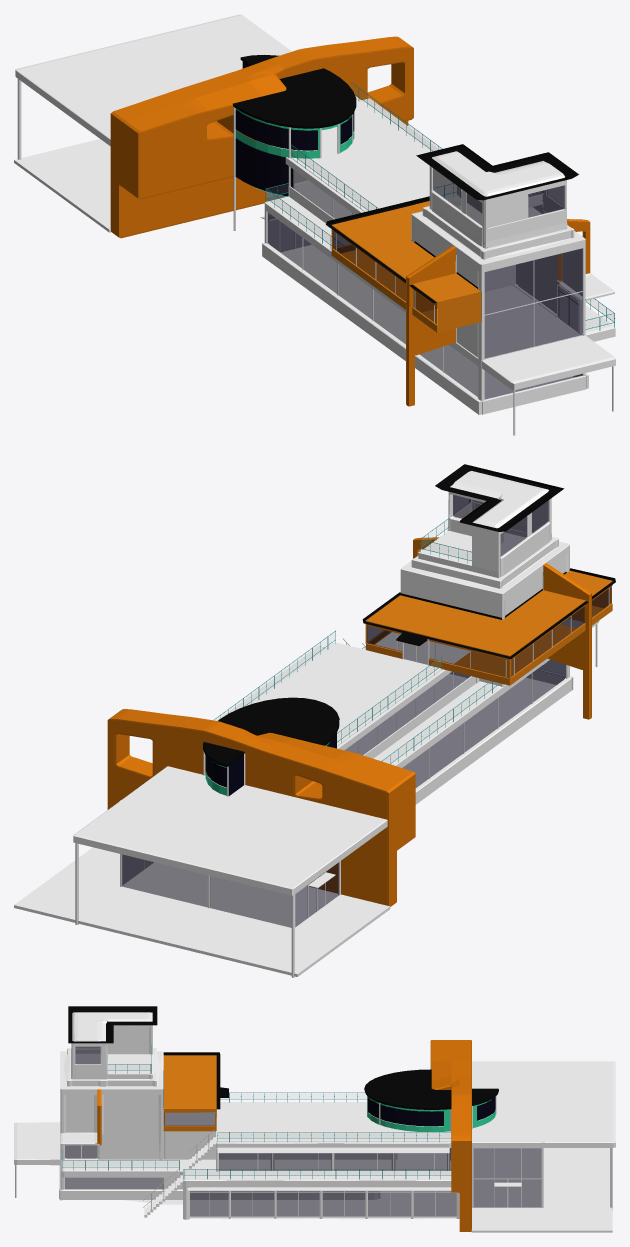
File: Italiandesignhotel1.0.dae
3 views of the same model, one above another, from view 1: azimuth 30°, elevation 25°; view 2: azimuth 150°, elevation 25°; view 3: azimuth 270°, elevation 25° (orthographic). The views are drawn at different scales.
Parts seen in each view (by area): view 1: Cube_001, Cube_004, Cube_003, Plane_009, Cube_005, Cube_068, Plane_007, Circle_002, Cube_028, Cube_026, Circle_001, Plane_004 (+15 smaller); view 2: Cube_001, Cube_028, Cube_003, Cube_004, Cube_005, Cube_068, Plane_002, Plane_007, Circle_002, Cube_002, Plane_011, Plane_004 (+9 smaller); view 3: Cube_001, Cube, Cube_003, Cube_028, Cube_068, Plane_003, Cube_004, Plane_005, Plane, Cube_005, Cube_002, Cube_034 (+17 smaller).
Part boxes in pixels (bbox=[...]): Cube_001: bbox=[262, 151, 615, 414]; Cube_004: bbox=[110, 36, 413, 238]; Cube_003: bbox=[15, 14, 431, 152]; Plane_009: bbox=[484, 248, 582, 358]; Cube_005: bbox=[331, 201, 481, 332]; Cube_068: bbox=[276, 99, 429, 211]; Plane_007: bbox=[268, 213, 477, 396]; Circle_002: bbox=[233, 55, 356, 128]; Cube_028: bbox=[14, 139, 111, 232]; Cube_026: bbox=[484, 285, 580, 358]; Circle_001: bbox=[235, 61, 354, 196]; Plane_004: bbox=[416, 144, 578, 200]; Cube_001: bbox=[345, 471, 599, 804]; Cube_028: bbox=[14, 847, 390, 976]; Cube_003: bbox=[73, 642, 387, 895]; Cube_004: bbox=[107, 709, 415, 906]; Cube_005: bbox=[365, 570, 612, 685]; Cube_068: bbox=[255, 643, 441, 745]; Plane_002: bbox=[122, 854, 291, 927]; Plane_007: bbox=[403, 659, 565, 787]; Circle_002: bbox=[203, 697, 339, 767]; Cube_002: bbox=[337, 632, 479, 758]; Plane_011: bbox=[367, 626, 508, 677]; Plane_004: bbox=[435, 464, 564, 531]; Cube_001: bbox=[14, 1012, 380, 1204]; Cube: bbox=[61, 1153, 459, 1219]; Cube_003: bbox=[216, 1061, 615, 1171]; Cube_028: bbox=[471, 1148, 612, 1232]; Cube_068: bbox=[216, 1102, 451, 1141]; Plane_003: bbox=[190, 1191, 456, 1216]; Cube_004: bbox=[430, 1040, 471, 1231]; Plane_005: bbox=[219, 1148, 451, 1170]; Plane: bbox=[473, 1148, 541, 1207]; Cube_005: bbox=[163, 1055, 228, 1131]; Cube_002: bbox=[163, 1102, 397, 1159]; Cube_034: bbox=[187, 1147, 521, 1191].
Size of what is drawn, in the model's own units: 13.3 by 32.18 by 9.22.
